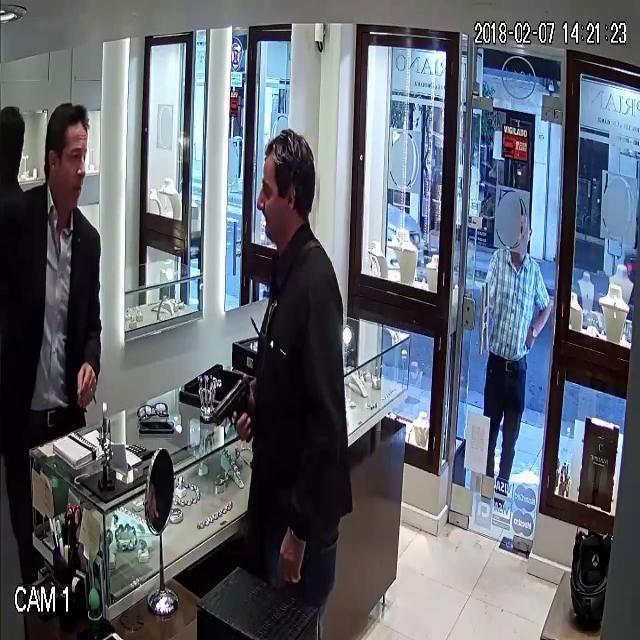weapon: (202, 360, 256, 450)
